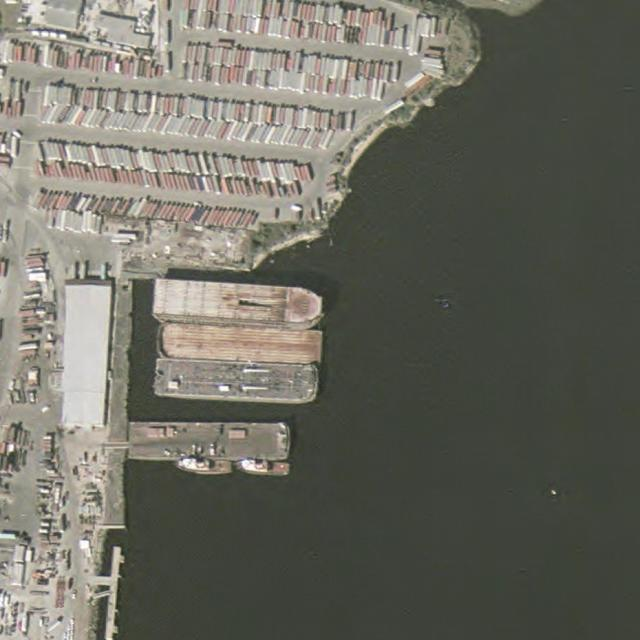Container Ship: (150, 277, 326, 332), (150, 354, 321, 407), (153, 319, 324, 367)
Other Ship: (175, 457, 233, 475), (236, 458, 291, 476)
